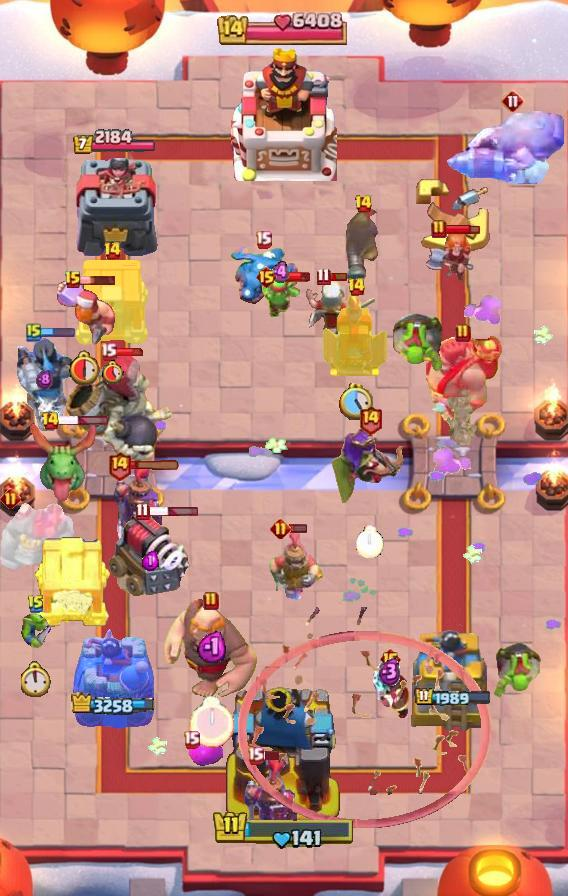balloon: (161, 599, 261, 703)
bar-level: (392, 312, 446, 374), (493, 639, 543, 699)
barbarian-hut: (329, 425, 411, 509)
bomb: (32, 534, 112, 628), (73, 260, 151, 346)
bomb-tower: (344, 205, 382, 283)
cannoneer-tower: (0, 500, 82, 602)
clock: (212, 809, 356, 851), (217, 11, 351, 45)
earthquake: (269, 530, 323, 602)
electro-giant: (61, 354, 175, 462)
electro-spirit: (197, 629, 226, 663), (379, 658, 401, 686), (272, 259, 289, 284), (36, 369, 53, 391), (142, 549, 159, 571)
electro-wizard: (25, 421, 99, 501)
elixir: (189, 696, 234, 748), (69, 349, 103, 386), (339, 384, 373, 421), (20, 661, 51, 697), (356, 526, 384, 559), (100, 360, 123, 384)
elixir-golem-big: (243, 756, 297, 846), (112, 461, 164, 547)
emote: (57, 414, 109, 426), (129, 460, 181, 471), (147, 507, 199, 518), (79, 274, 116, 286), (275, 271, 311, 283), (444, 223, 479, 235), (40, 327, 76, 338), (114, 347, 146, 357), (261, 750, 281, 762), (328, 271, 348, 282), (288, 523, 308, 534)
fisherman: (443, 397, 481, 445)
giant-snowball: (260, 274, 300, 324)
golem: (106, 509, 194, 599)
graveyard: (228, 242, 298, 306)
hog-rider: (423, 230, 475, 282)
ice-spirit-evolution-symbol: (322, 292, 390, 378)
inferno-dragon: (14, 335, 74, 431)
king-tower: (223, 680, 345, 826), (231, 45, 337, 181)
lava-hound: (422, 331, 504, 427)
lumberjack: (367, 661, 413, 721)
mighty-miner: (54, 278, 118, 348)
miner: (188, 738, 224, 768)
poison: (290, 275, 378, 349)
queen-tower: (403, 621, 503, 731), (68, 158, 159, 256), (72, 627, 156, 731)
selected: (71, 128, 156, 155), (71, 692, 157, 718), (414, 687, 492, 709)
skeleton-barrel: (237, 606, 491, 829)
text: (108, 450, 133, 481), (357, 405, 382, 435), (501, 89, 525, 113), (255, 265, 278, 289), (379, 647, 402, 671), (270, 518, 291, 539), (0, 488, 20, 509), (354, 194, 374, 214), (102, 241, 122, 261), (347, 277, 366, 297), (40, 411, 59, 431), (64, 270, 82, 290), (27, 594, 45, 614), (99, 343, 117, 361), (183, 731, 201, 749), (431, 219, 447, 239), (26, 322, 42, 342), (455, 323, 471, 343), (203, 591, 219, 611), (256, 231, 273, 249), (247, 747, 264, 765), (317, 267, 332, 286), (135, 503, 149, 522)
wizard: (442, 106, 568, 184)
zap: (16, 611, 56, 649)
